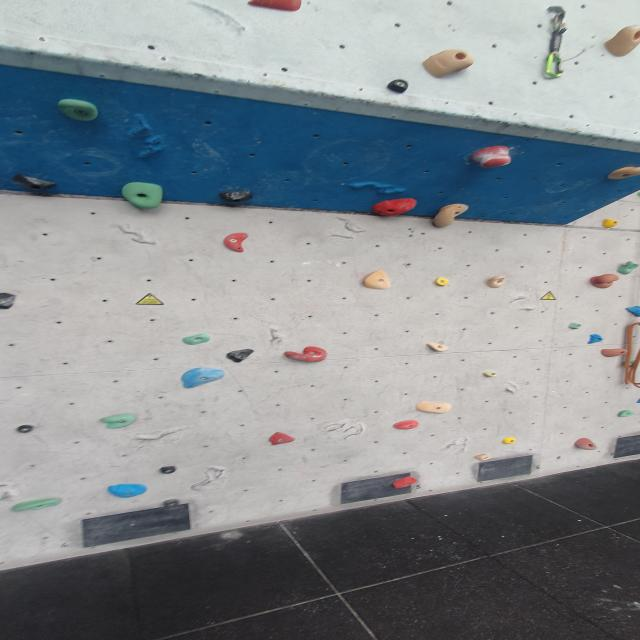Crimp: (178, 368, 227, 391), (245, 0, 307, 14), (106, 483, 152, 501), (605, 165, 640, 183), (416, 400, 455, 414), (266, 431, 298, 446), (390, 418, 422, 432), (183, 333, 215, 347), (389, 477, 419, 491), (225, 348, 257, 361), (598, 347, 629, 359), (422, 342, 452, 354), (430, 277, 453, 288), (615, 410, 639, 420), (478, 369, 504, 378), (599, 218, 620, 228), (499, 438, 518, 447), (587, 336, 606, 345)
Jug: (120, 182, 167, 214), (601, 22, 640, 59), (56, 97, 102, 124), (372, 198, 421, 220), (431, 203, 471, 228), (8, 496, 65, 512), (358, 270, 396, 290), (285, 347, 331, 363), (587, 273, 621, 291), (102, 413, 141, 427), (616, 262, 640, 277), (573, 438, 599, 451), (486, 276, 506, 288)
Pinch: (421, 50, 479, 81), (11, 172, 60, 194), (217, 188, 257, 205), (223, 232, 251, 252), (386, 78, 412, 92), (155, 464, 177, 474), (15, 425, 35, 436), (474, 452, 494, 462), (162, 498, 180, 508), (566, 320, 584, 330)
